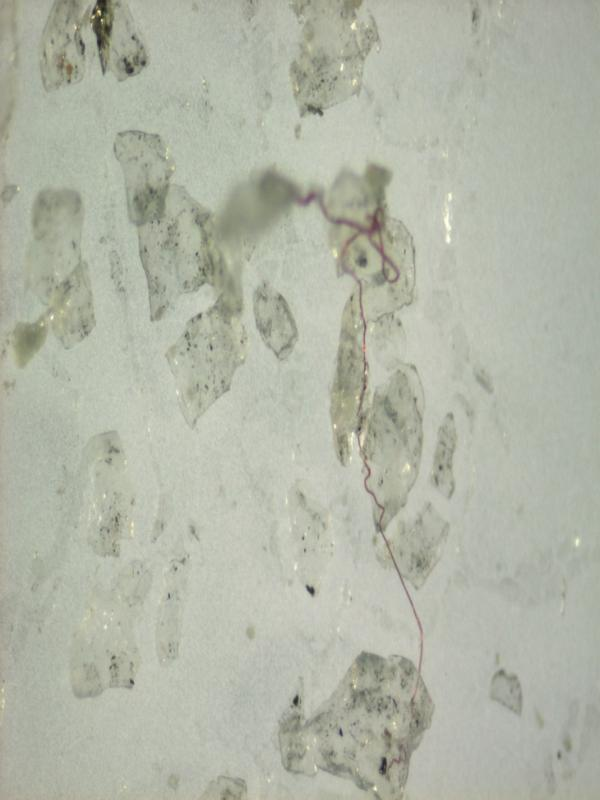microplastic: (276, 648, 435, 798)
